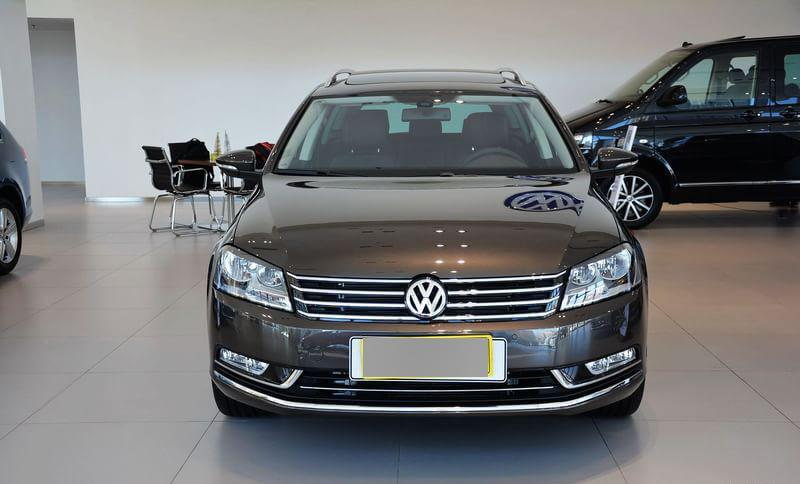Wagon: (202, 64, 650, 421)
